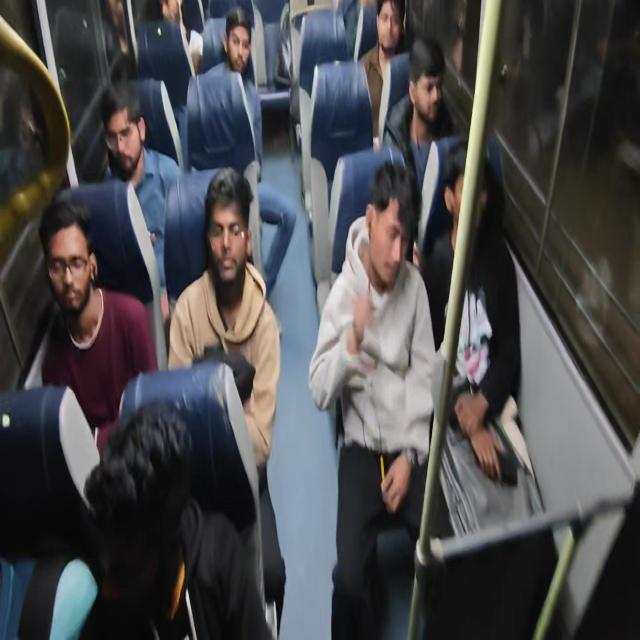person: (18, 2, 544, 637), (308, 158, 437, 638), (167, 166, 286, 636), (78, 398, 273, 639), (421, 140, 534, 538), (15, 399, 201, 638), (186, 6, 296, 298), (36, 197, 158, 458), (99, 80, 182, 312), (381, 35, 458, 256), (186, 5, 264, 176), (135, 0, 202, 163), (358, 0, 410, 146)
